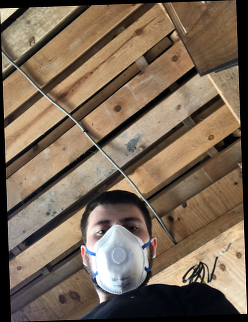with_mask: (87, 211, 152, 295)
